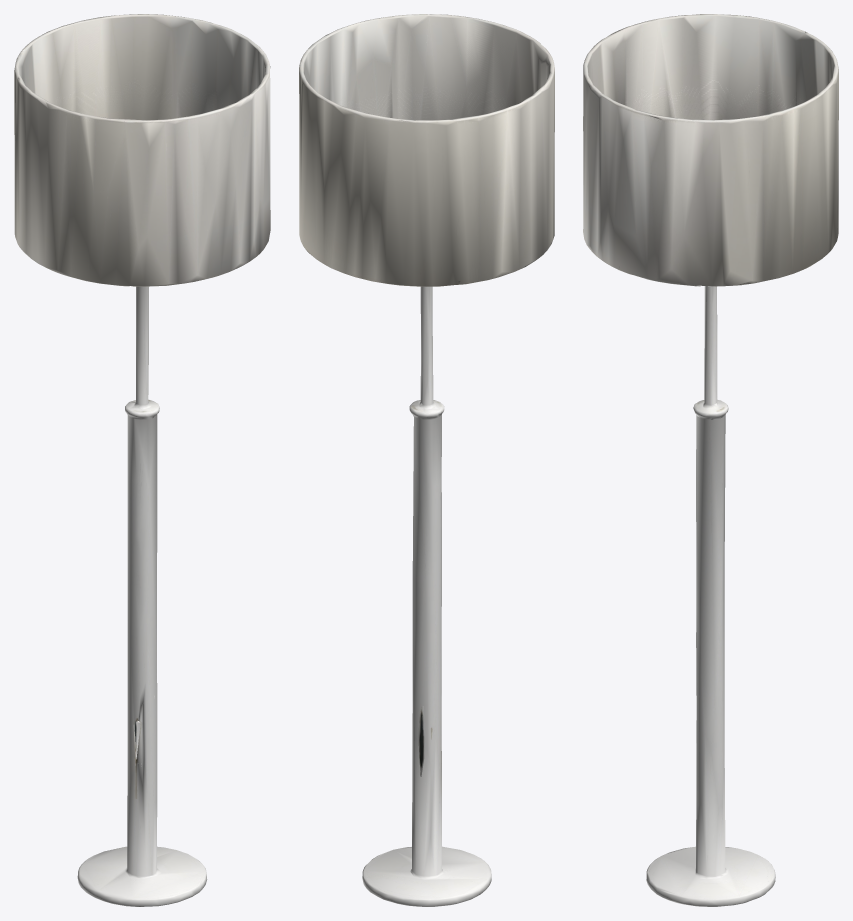
File: lamp.glb
3 renders of one model, left to right at view 1: azimuth 30°, elevation 25°; view 2: azimuth 150°, elevation 25°; view 3: azimuth 270°, elevation 25°, orthographic.
Visible parts, largest first — view 1: LampShade, LampBase; view 2: LampShade, LampBase; view 3: LampShade, LampBase.
Part boxes in pixels (x1,y1,x2,y2): LampShade: [14, 14, 270, 361]; LampBase: [77, 294, 207, 906]; LampShade: [299, 14, 554, 403]; LampBase: [362, 287, 491, 906]; LampShade: [583, 14, 838, 358]; LampBase: [646, 287, 775, 906].
Bounding box in the file's own units: 0.3417 × 1.2 × 0.3418.
Materials: 1 (1 with a texture image).
